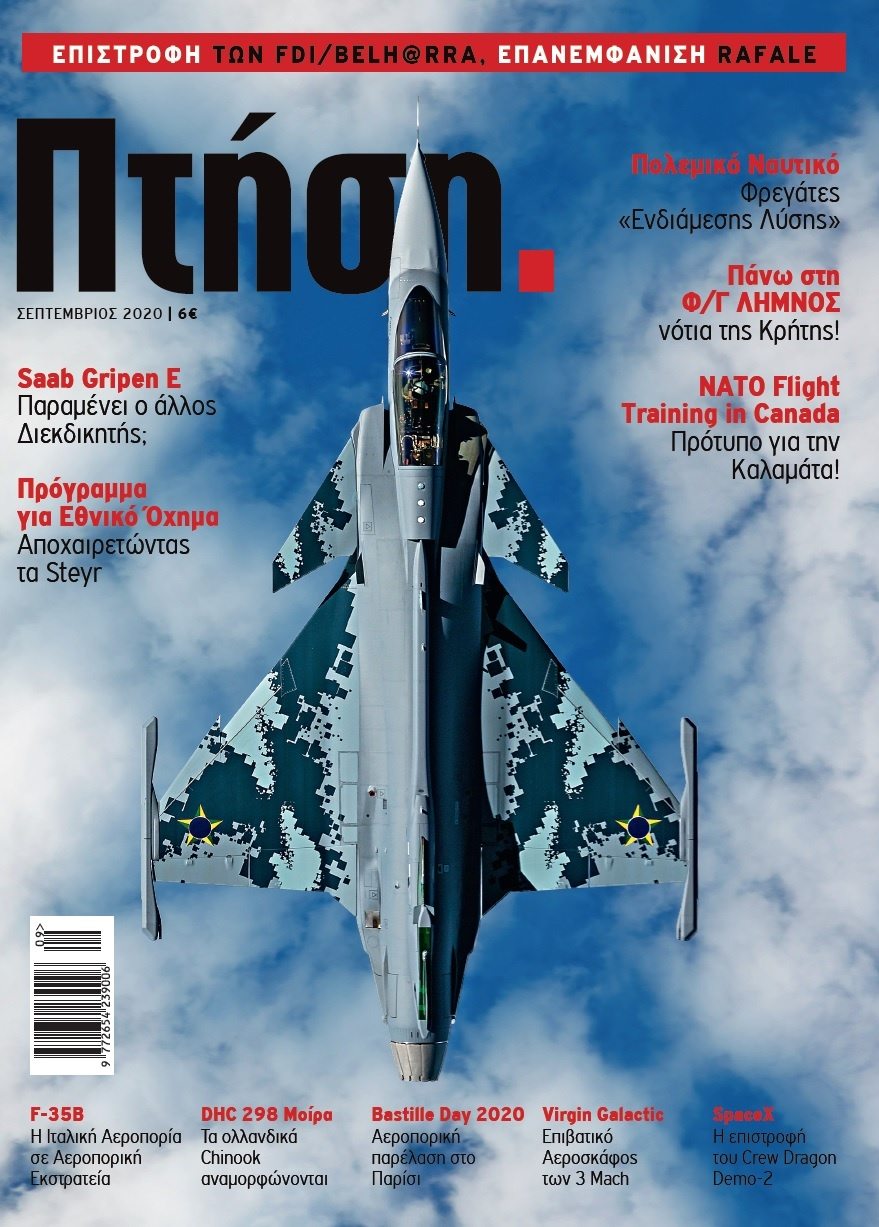JAS39: (140, 95, 699, 1083)
